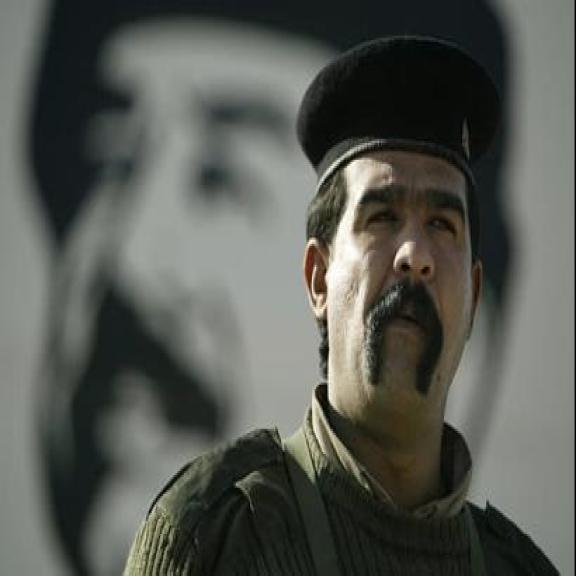face: (301, 151, 483, 432)
